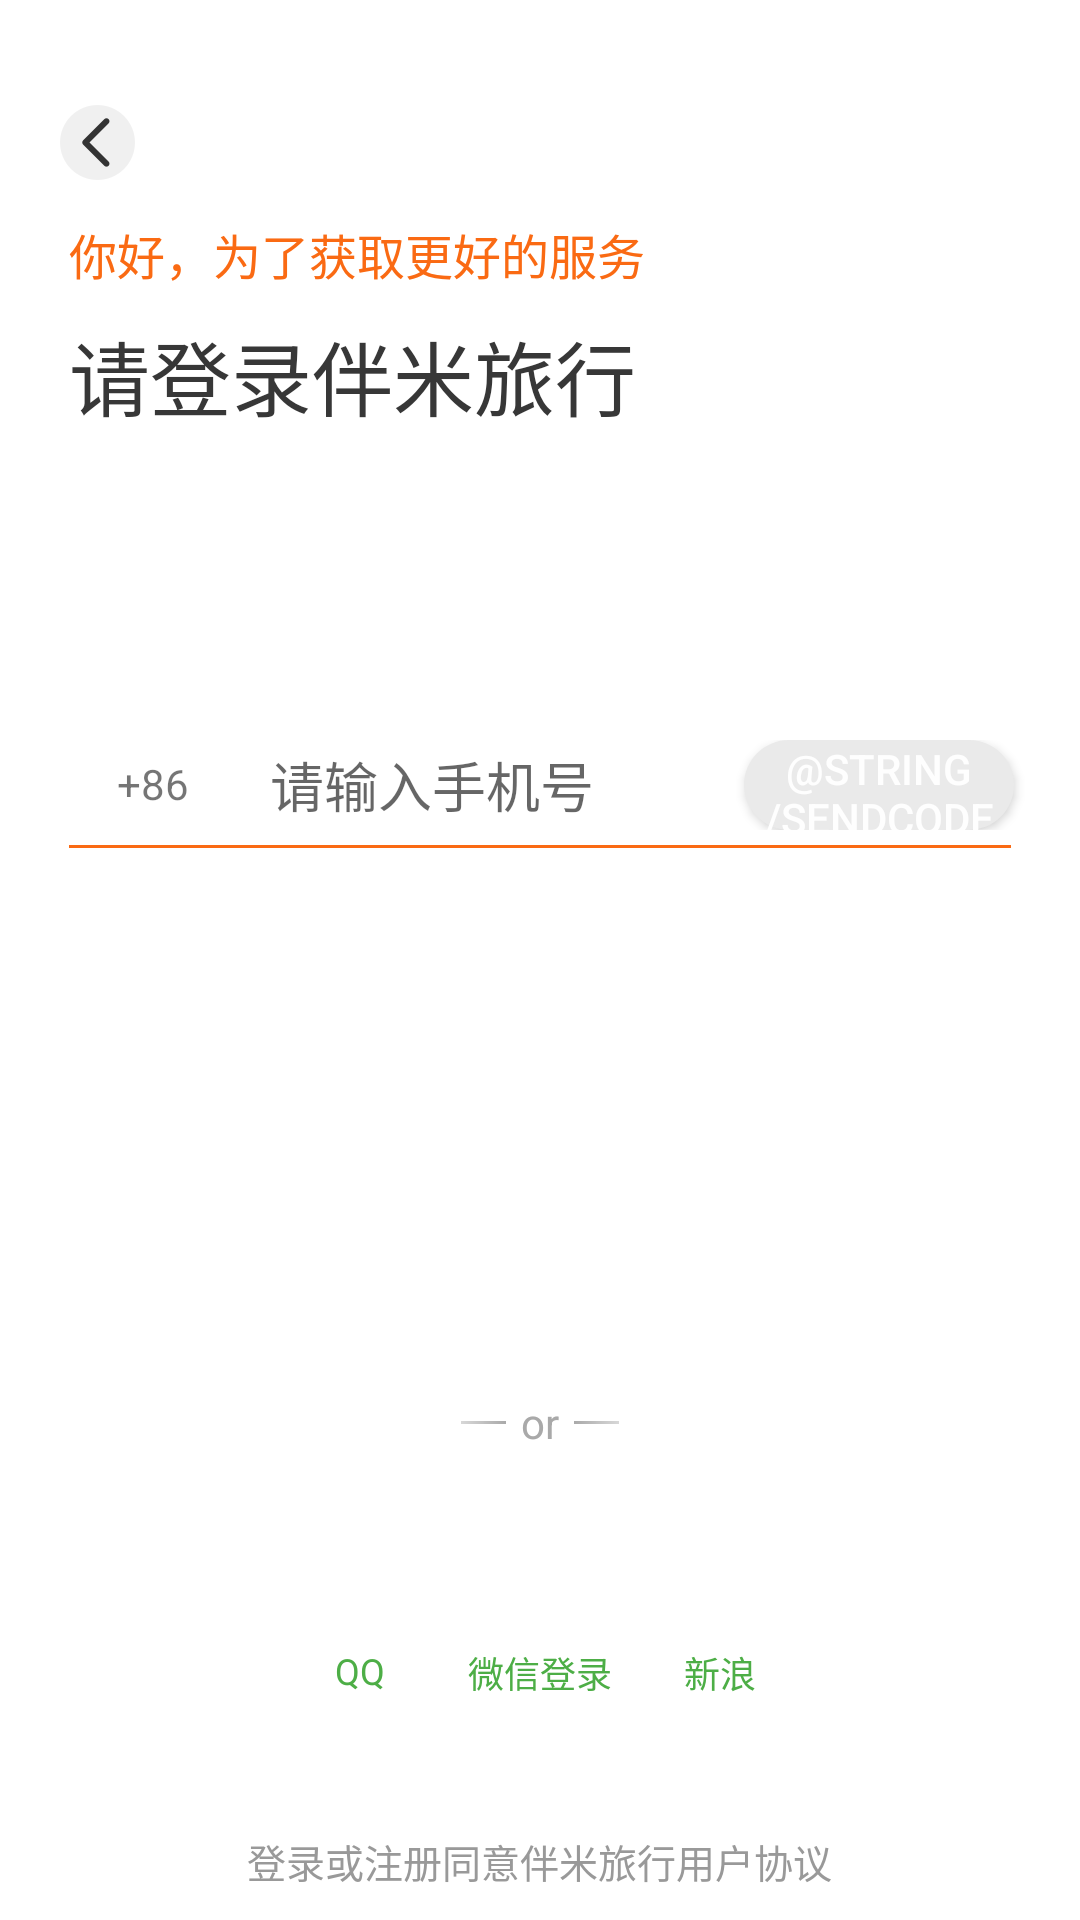

Locate icon controls on the screen. Image size 1080px x 1920px, boxes as (x1, y1, x2, y2).
back: (60, 105, 135, 180)
